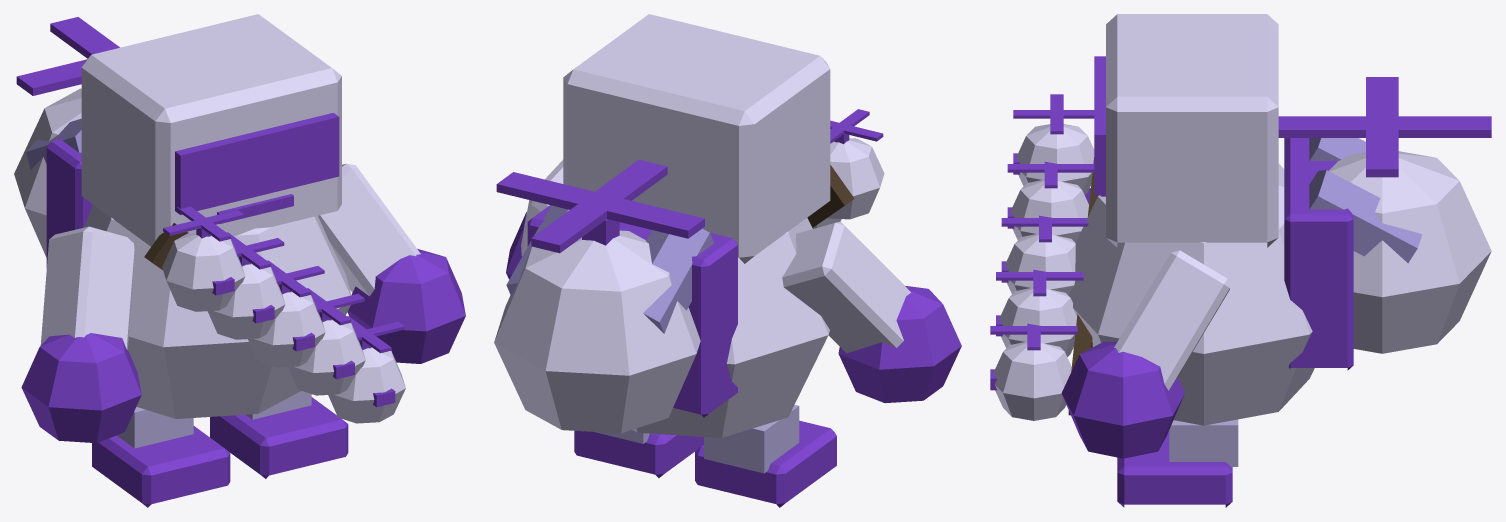
Rendered from r8_mini_drone_carrier.glb.
3 renders of one model, left to right at view 1: azimuth 30°, elevation 25°; view 2: azimuth 150°, elevation 25°; view 3: azimuth 270°, elevation 25°, orthographic. The views are drawn at different scales.
Parts seen in each view (by area): view 1: r8_mini_drone_carrier_mesh; view 2: r8_mini_drone_carrier_mesh; view 3: r8_mini_drone_carrier_mesh.
Part boxes in pixels (<box>): r8_mini_drone_carrier_mesh: <box>14,14,465,507</box>; r8_mini_drone_carrier_mesh: <box>494,14,961,507</box>; r8_mini_drone_carrier_mesh: <box>990,14,1491,507</box>.
Size of the model in its own units: 4.04 by 3.6 by 4.05.
1 material, 1 textured.
